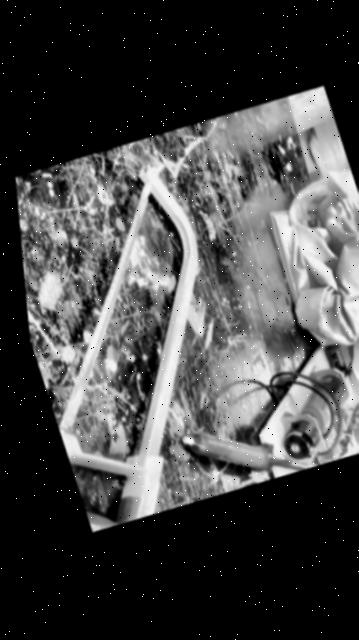pot: (350, 395, 359, 452)
